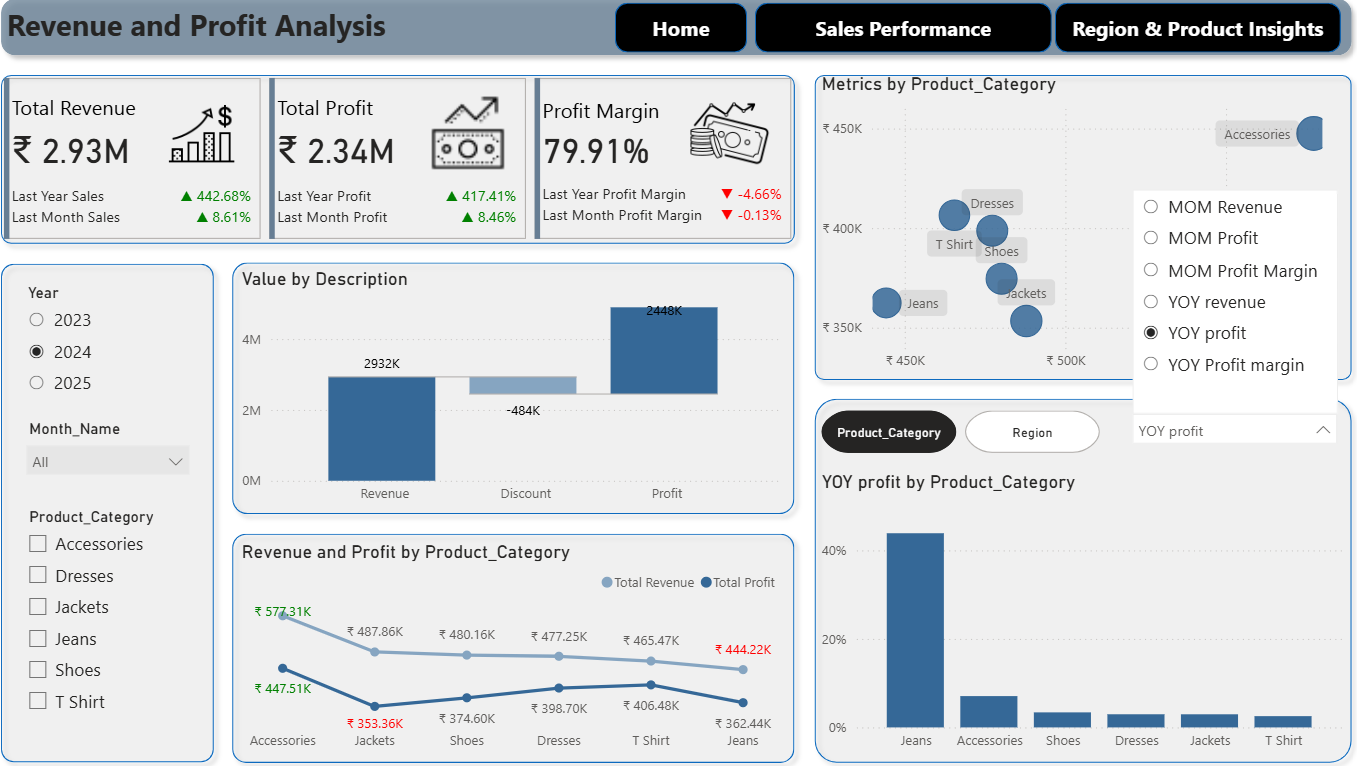

The dashboard page shown, as its layout file describes it:
{"tool":"powerbi","page":{"name":"Revenue and Profit Analysis","canvas":[1280,720],"ordinal":2},"visuals":[{"type":"shape","box":[10.3,69.8,748,173.1],"z":0},{"type":"shape","box":[10.4,243.4,213.6,476.4],"z":1000},{"type":"shape","box":[223.5,242.9,534.8,249.3],"z":2000},{"type":"shape","box":[758.3,69.8,511.6,298.4],"z":3000},{"type":"shape","box":[223.5,492.2,534.8,228.7],"z":4000},{"type":"shape","box":[758.3,368.2,511.6,352.7],"z":5000},{"type":"shape","box":[10,0,1260,70],"z":6000},{"type":"cardVisual","fields":{"Data":["Measures (2).Total_Sales","Measures (2).Total Profit","Key Measures.Profit Margin"]},"box":[17.1,77.1,735.7,158.6],"z":7000},{"type":"slicer","fields":{"Values":["DateTable.Year"]},"box":[31.1,265,172.9,125.6],"z":8000},{"type":"slicer","fields":{"Values":["DateTable.Month_Name"]},"box":[32.3,390.6,170.4,83.3],"z":13000},{"type":"slicer","fields":{"Values":["Snitch_Fashion_Sales_Uncleaned.Product_Category"]},"box":[32.3,471.5,170.4,212.7],"z":14000},{"type":"textbox","box":[19.9,8.7,547.3,52.2],"z":15000},{"type":"scatterChart","title":"Metrics by Product_Category","fields":{"X":["Key Measures.Total Revenue"],"Y":["Key Measures.Total Profit"],"Category":["Snitch_Fashion_Sales_Uncleaned.Product_Category"],"Size":["Key Measures.Total Revenue"]},"box":[768.7,77.5,489.6,282.9],"z":16000},{"type":"waterfallChart","fields":{"Y":["Key Measures.Waterfall value"],"Category":["Data.Description"]},"box":[235.1,255.8,505.1,226.1],"z":17000},{"type":"lineChart","title":"Revenue and Profit by Product_Category","fields":{"Y":["Key Measures.Total Revenue","Key Measures.Total Profit"],"Category":["Snitch_Fashion_Sales_Uncleaned.Product_Category"]},"box":[235.1,506.4,505.1,202.8],"z":18000},{"type":"slicer","fields":{"Values":["MOM and YOY.MOM and YOY"]},"box":[1049.8,380.6,208.4,51.8],"z":19000},{"type":"columnChart","fields":{"Category":["Snitch_Fashion_Sales_Uncleaned.Product_Category"],"Y":["Key Measures.Last Month revenue parameter"]},"box":[768.9,442.7,489.3,266.7],"z":20000},{"type":"advancedSlicerVisual","fields":{"Values":["Parameter.Parameter"]},"box":[768.9,383.2,266.7,49.2],"z":21000},{"type":"image","box":[159.2,94.5,88.3,78.4],"z":22000},{"type":"image","box":[393.1,83.3,110.7,97],"z":23000},{"type":"image","box":[639.4,83.3,100.8,97],"z":24000},{"type":"shape","box":[712.9,12.9,272.9,45.7],"z":24001},{"type":"shape","box":[988.6,12.9,262.9,45.7],"z":24002},{"type":"shape","box":[584.3,12.9,121.4,45.7],"z":24003}]}

Visuals, with their boxes in screenshot pixels (x1, y1, x2, y2), scaled from the page's 1280x720 canvas onto the 1357x766 screenshot:
shape: box(11, 74, 804, 258)
shape: box(11, 259, 237, 765)
shape: box(237, 258, 804, 524)
shape: box(804, 74, 1346, 392)
shape: box(237, 524, 804, 765)
shape: box(804, 392, 1346, 765)
shape: box(11, 0, 1346, 74)
cardVisual - Measures (2).Total_Sales x Measures (2).Total Profit: box(18, 82, 798, 251)
slicer - DateTable.Year: box(33, 282, 216, 416)
slicer - DateTable.Month_Name: box(34, 416, 215, 504)
slicer - Snitch_Fashion_Sales_Uncleaned.Product_Category: box(34, 502, 215, 728)
textbox: box(21, 9, 601, 65)
"Metrics by Product_Category" scatterChart: box(815, 82, 1334, 383)
waterfallChart - Key Measures.Waterfall value x Data.Description: box(249, 272, 785, 513)
"Revenue and Profit by Product_Category" lineChart: box(249, 539, 785, 755)
slicer - MOM and YOY.MOM and YOY: box(1113, 405, 1334, 460)
columnChart - Snitch_Fashion_Sales_Uncleaned.Product_Category x Key Measures.Last Month revenue parameter: box(815, 471, 1334, 755)
advancedSlicerVisual - Parameter.Parameter: box(815, 408, 1098, 460)
image: box(169, 101, 262, 184)
image: box(417, 89, 534, 192)
image: box(678, 89, 785, 192)
shape: box(756, 14, 1045, 62)
shape: box(1048, 14, 1327, 62)
shape: box(619, 14, 748, 62)
